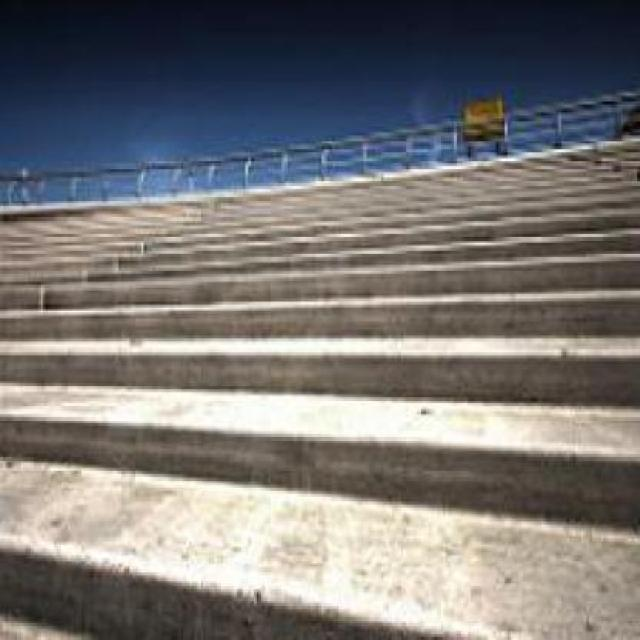stair: (42, 200, 609, 528)
